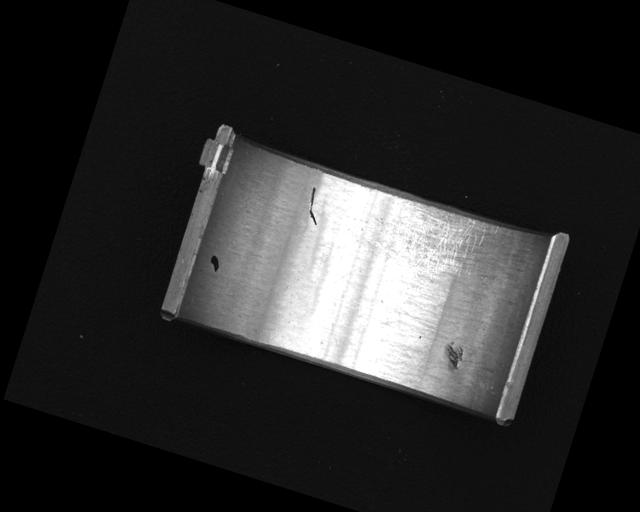blot: (206, 252, 223, 273)
bruise: (438, 338, 468, 372)
nick: (301, 185, 327, 225)
scratch: (357, 189, 499, 292)
